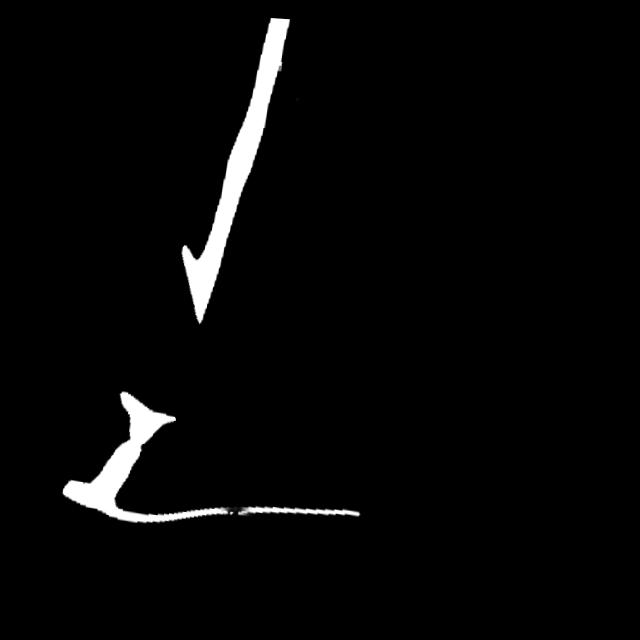inf: (217, 487, 263, 529)
